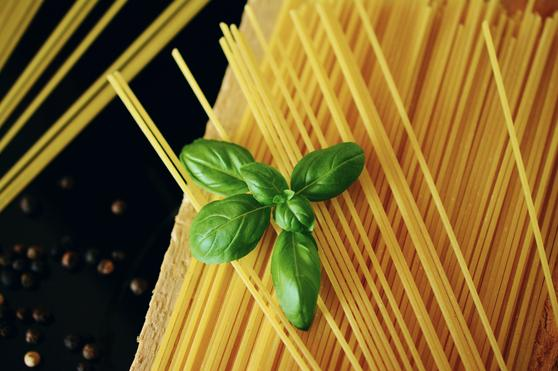spaghetti: (357, 3, 553, 371)
